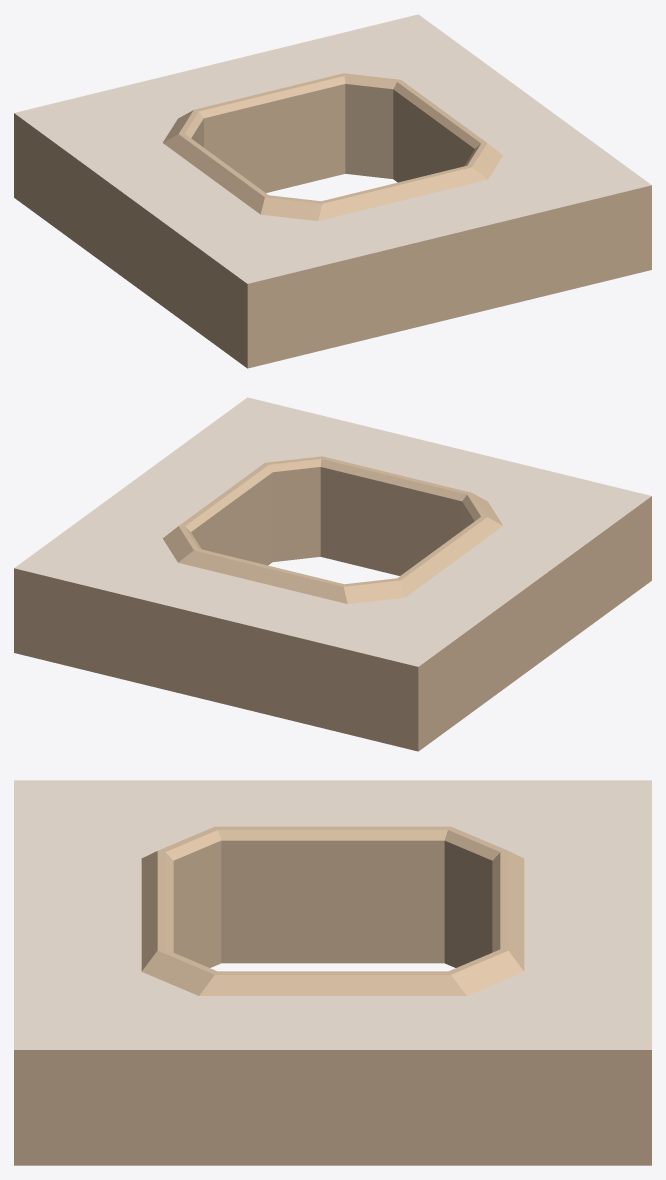
Rendered from Puzzle_Floor_Conduit_Control_Housing_Unconnected.fbx.
The picture shows the model from 3 angles, top to bottom: view 1: azimuth 30°, elevation 25°; view 2: azimuth 150°, elevation 25°; view 3: azimuth 270°, elevation 25°; orthographic projection. The views are drawn at different scales.
Parts seen in each view (by area): view 1: Sandstone_Trim.object1, Sandstone_Floor; view 2: Sandstone_Trim.object1, Sandstone_Floor; view 3: Sandstone_Trim.object1, Sandstone_Floor.
Boxes of the visible parts, left/top/right/bottom form: Sandstone_Trim.object1: left=14, top=73, right=651, bottom=368; Sandstone_Floor: left=14, top=14, right=651, bottom=283; Sandstone_Trim.object1: left=14, top=456, right=651, bottom=751; Sandstone_Floor: left=14, top=397, right=651, bottom=666; Sandstone_Trim.object1: left=14, top=826, right=651, bottom=1165; Sandstone_Floor: left=14, top=780, right=651, bottom=1049.
Bounding box in the file's own units: 1 × 0.225 × 1.
